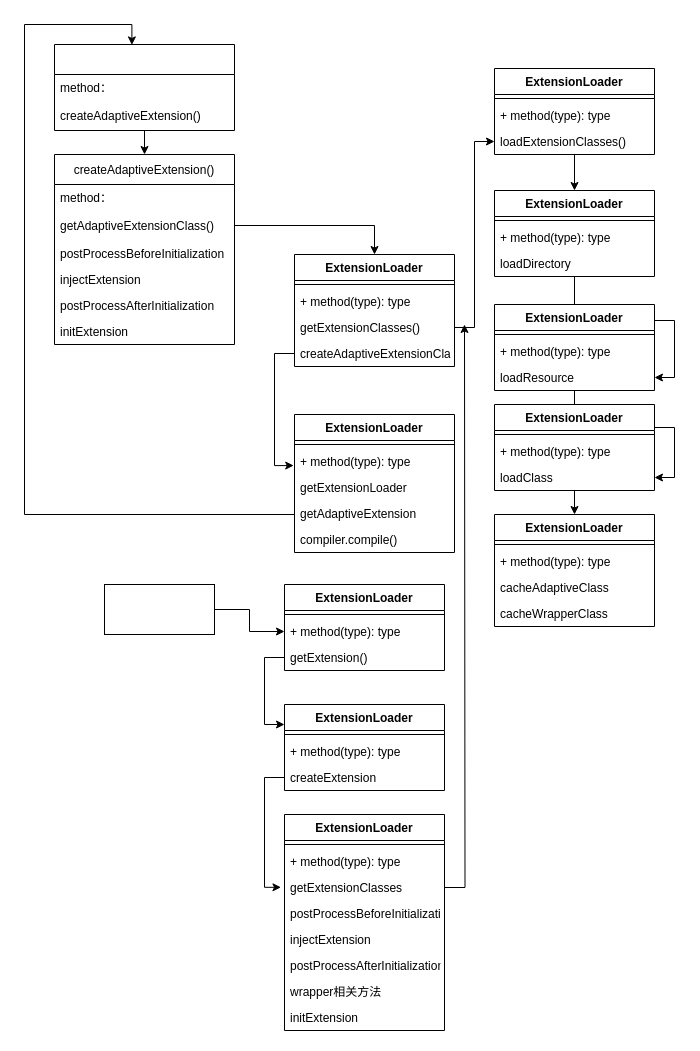
This 700x1051 diagram has some shape labels left out. The shapes that lost their labels are listed below. From the top down, each one's box as (x1, y1, x2, y2) in pixels, then its label:
(54, 44, 234, 130): getAdaptiveExtension()
(104, 584, 214, 634): 调用相关SPI接口
